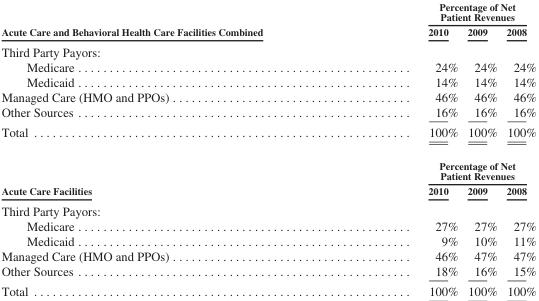table: (0, 0, 535, 298)
table column: (0, 0, 344, 298), (344, 0, 462, 298), (462, 0, 501, 298), (501, 0, 535, 298)
table column header: (0, 0, 535, 40)
table projected row header: (0, 40, 535, 58), (0, 199, 535, 217)
table row: (0, 149, 535, 183), (0, 121, 535, 149), (0, 0, 535, 24), (0, 40, 535, 58), (0, 199, 535, 217), (0, 263, 535, 281), (0, 104, 535, 121), (0, 281, 535, 298), (0, 24, 535, 40), (0, 73, 535, 89), (0, 183, 535, 199), (0, 217, 535, 233), (0, 58, 535, 73), (0, 89, 535, 104), (0, 233, 535, 248), (0, 248, 535, 263)
table spanning cell: (0, 121, 344, 183), (0, 0, 344, 40), (344, 149, 535, 183), (344, 0, 535, 24)
